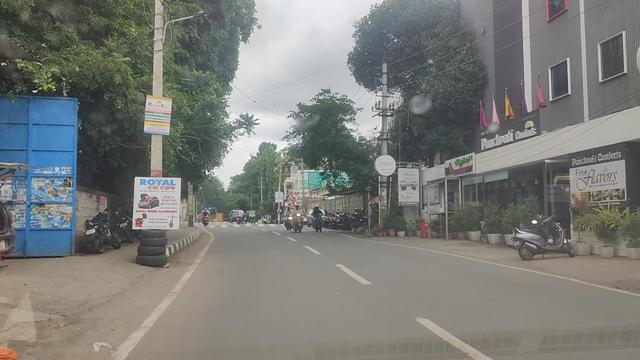RoadDamages: (9, 293, 88, 351)
